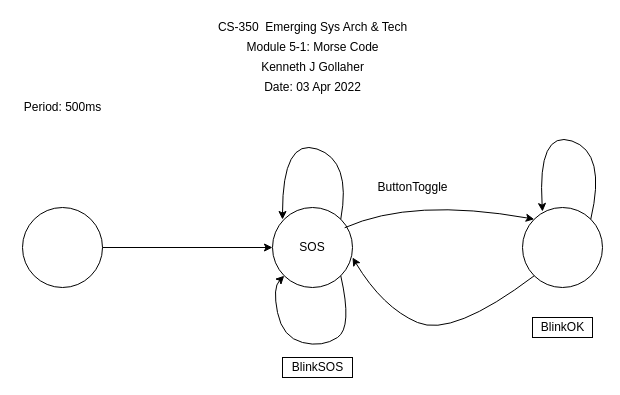
This 620x395 diagram has some shape labels left out. Each missing label, with the centre of its shape:
INIT: (x=62, y=247)
OK: (x=562, y=247)
